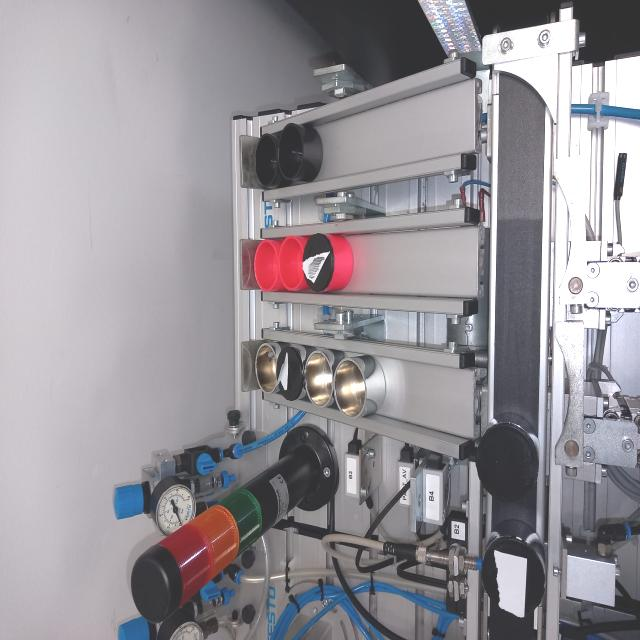NoLid: (337, 349, 386, 422), (277, 126, 318, 187), (306, 344, 336, 414), (252, 334, 277, 402), (250, 237, 282, 290), (253, 134, 281, 187), (278, 237, 303, 295)
